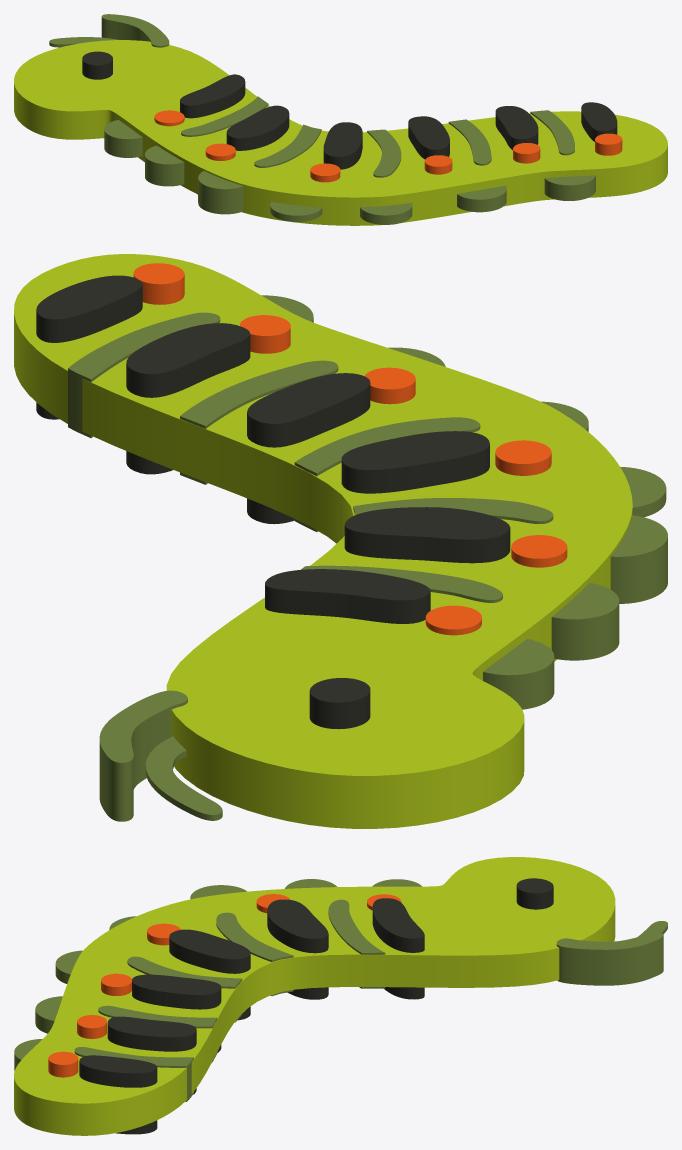
Rendered from emoji_u1f41b.glb.
3 views of the same model, one above another, from view 1: azimuth 30°, elevation 25°; view 2: azimuth 150°, elevation 25°; view 3: azimuth 270°, elevation 25° (orthographic). The views are drawn at different scales.
Visible parts, largest first — view 1: emoji_u1f41b; view 2: emoji_u1f41b; view 3: emoji_u1f41b.
Boxes of the visible parts, left/top/right/bottom form: emoji_u1f41b: left=14, top=14, right=667, bottom=225; emoji_u1f41b: left=14, top=254, right=667, bottom=828; emoji_u1f41b: left=14, top=857, right=667, bottom=1135.
Bounding box in the file's own units: 0.0295 × 0.0036 × 0.0331.
